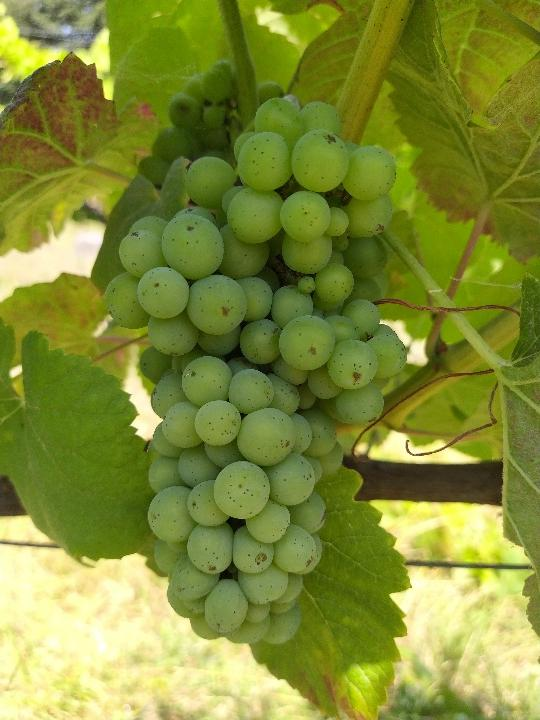grape: (103, 92, 409, 648)
